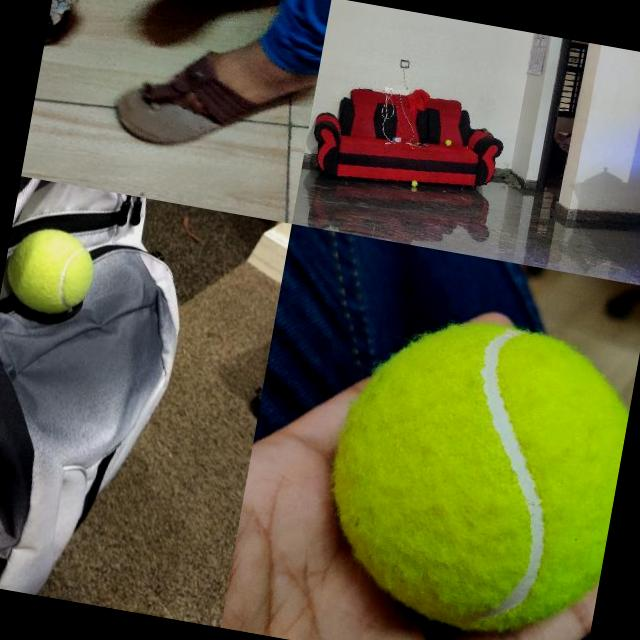Tennis Ball: (309, 299, 639, 640), (0, 222, 99, 321), (444, 138, 452, 145), (409, 180, 416, 187)
